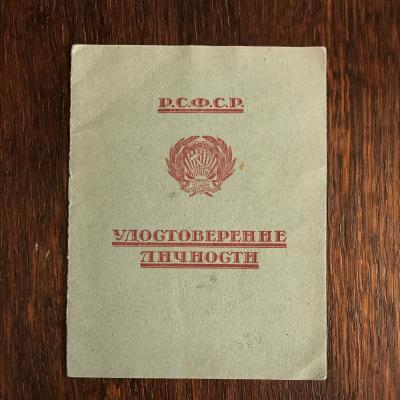document: (63, 45, 330, 383)
